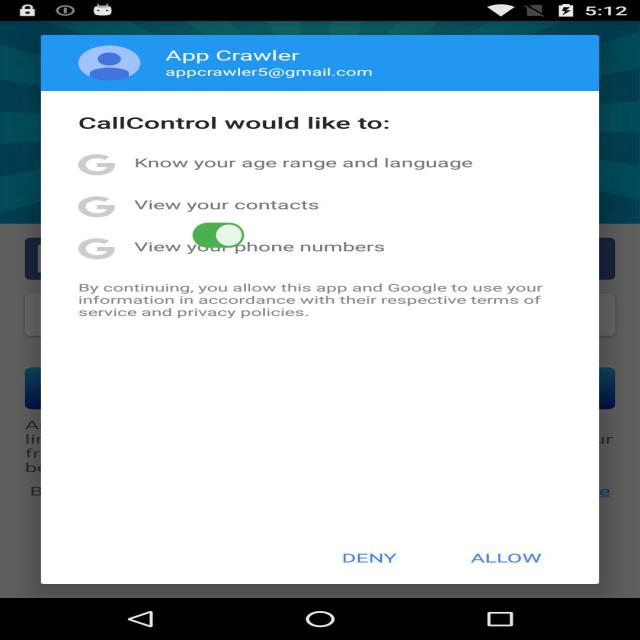social proof: (190, 213, 247, 259)
